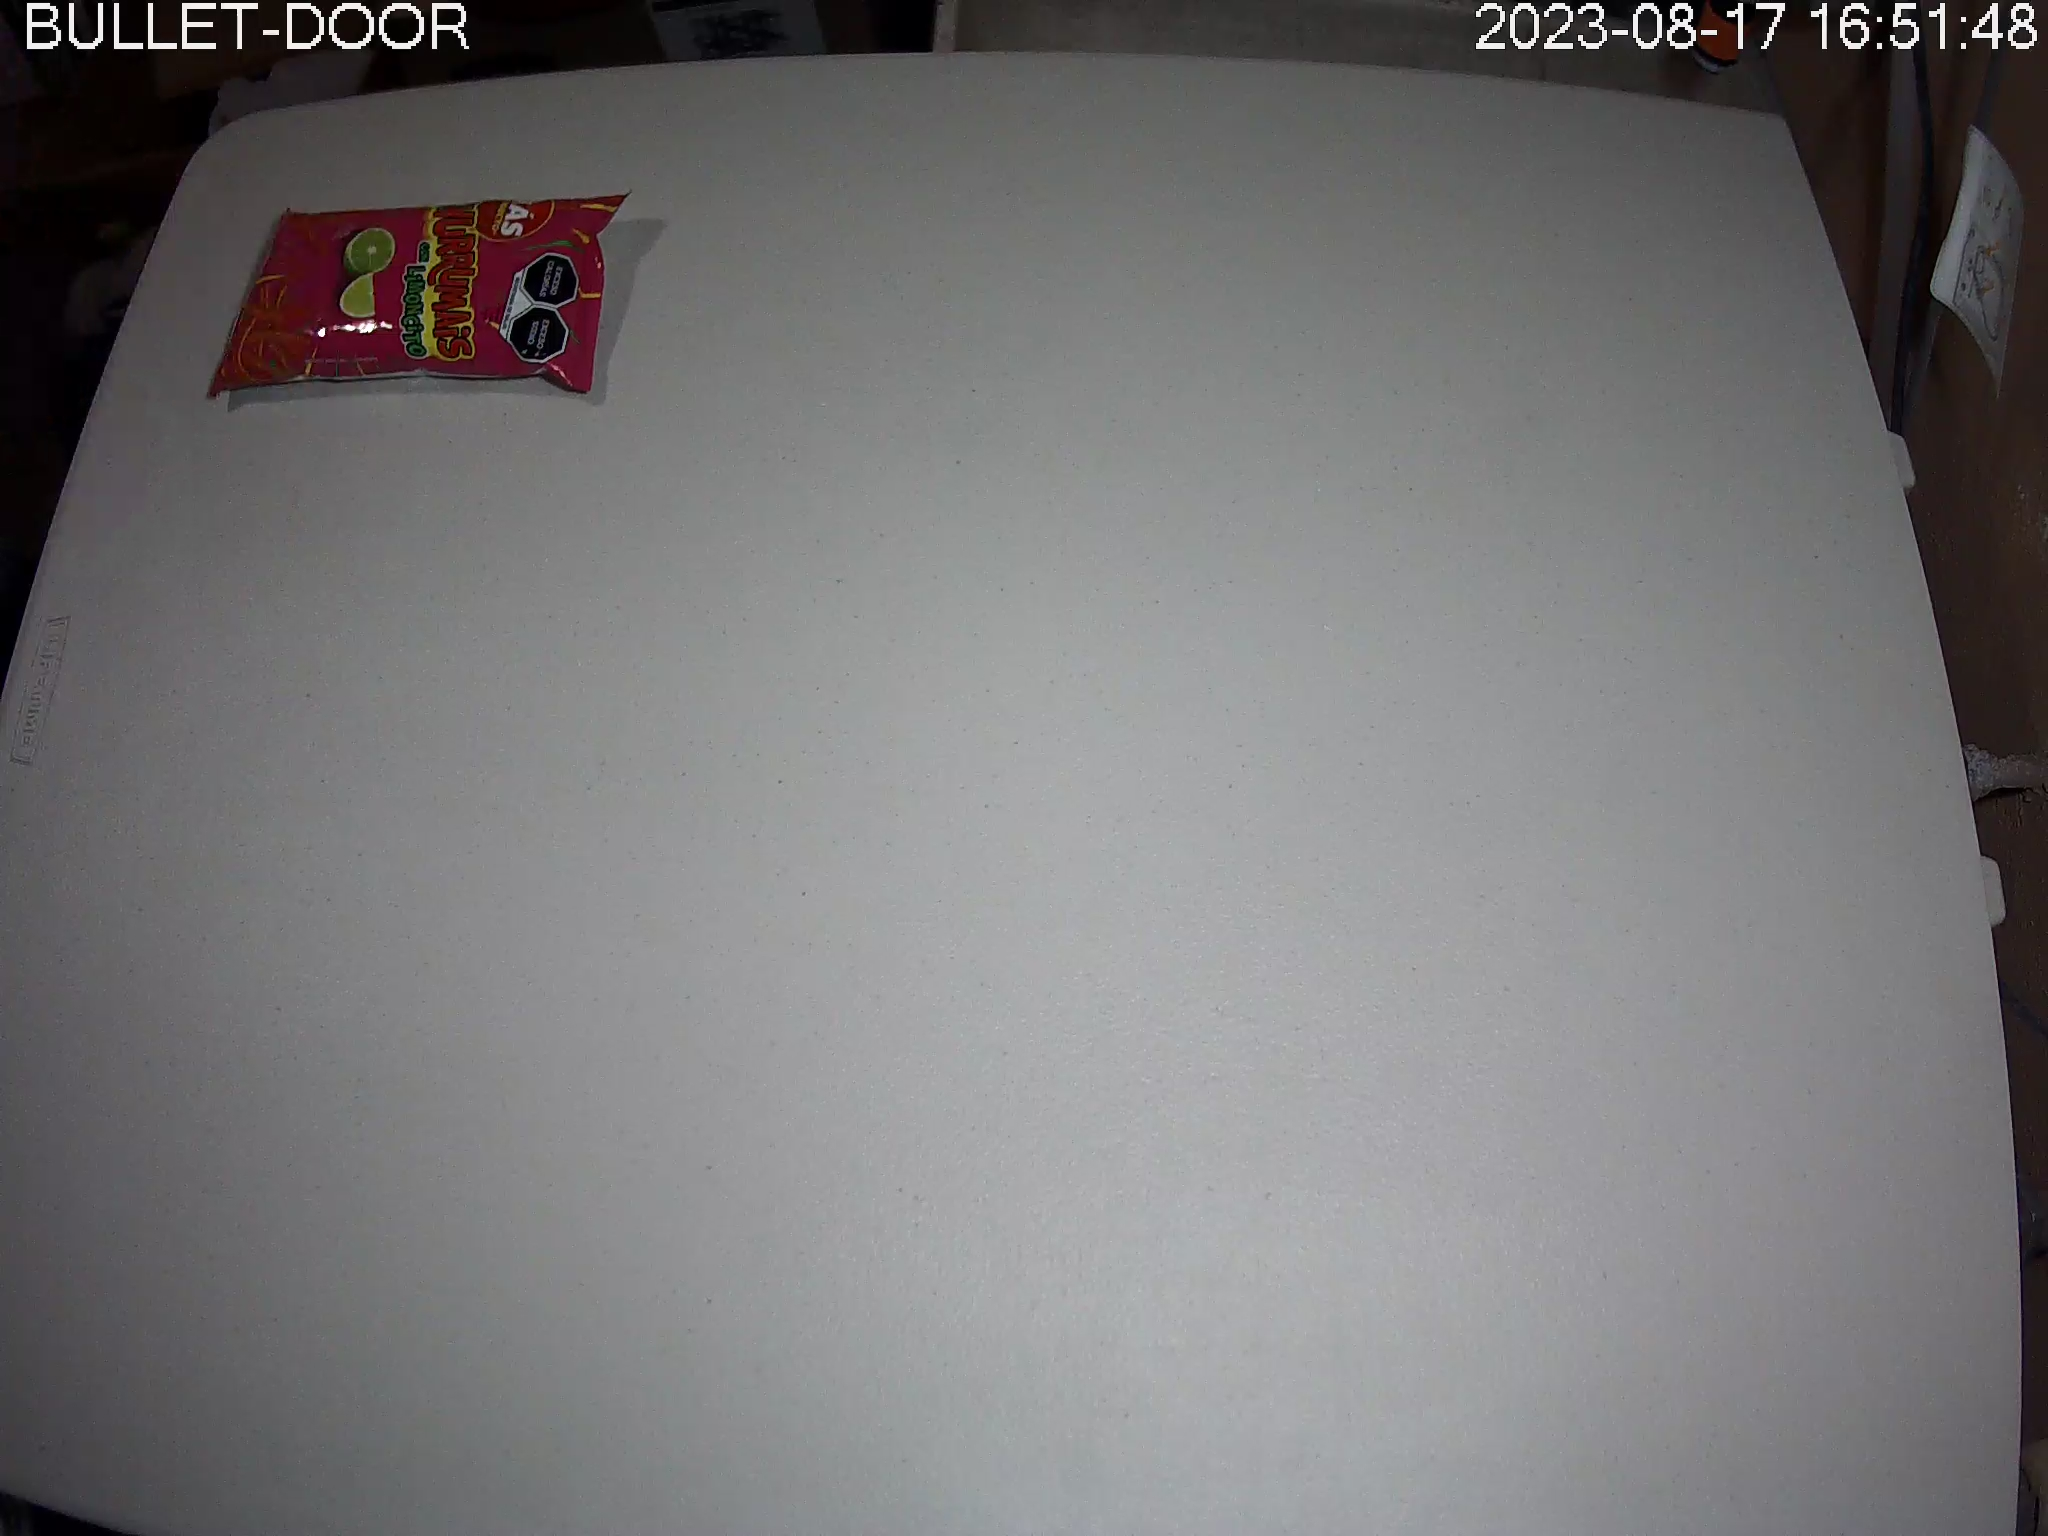Churrumais_70_F: (206, 190, 632, 395)
